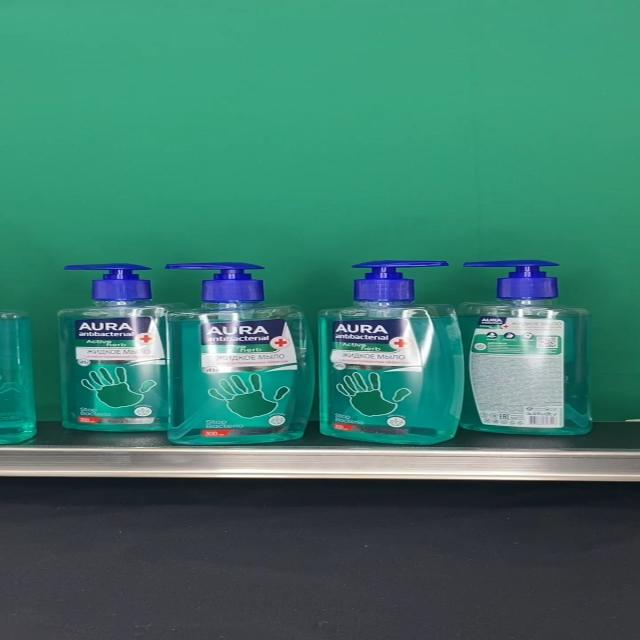Bottle: (165, 262, 315, 446), (317, 260, 464, 445), (454, 260, 594, 436), (56, 263, 194, 432)
Cap: (351, 260, 449, 302), (164, 262, 264, 300), (463, 260, 558, 300), (64, 263, 154, 299)
